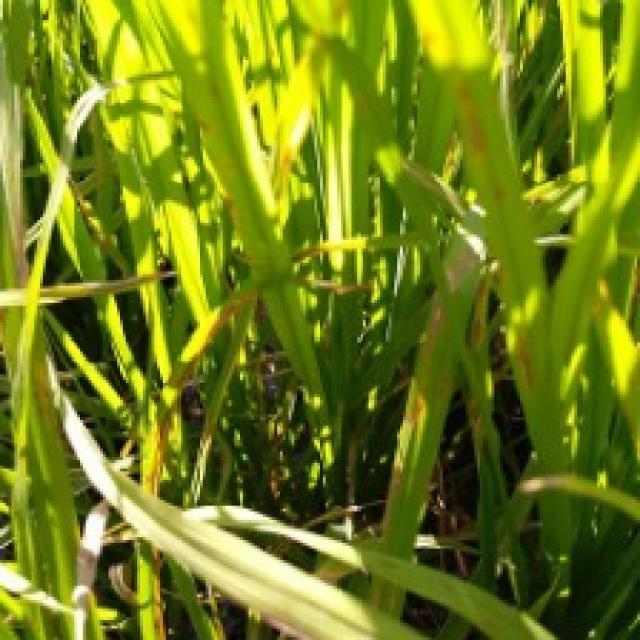Rice___Rice_Blast: (47, 359, 424, 637), (366, 219, 490, 625)
